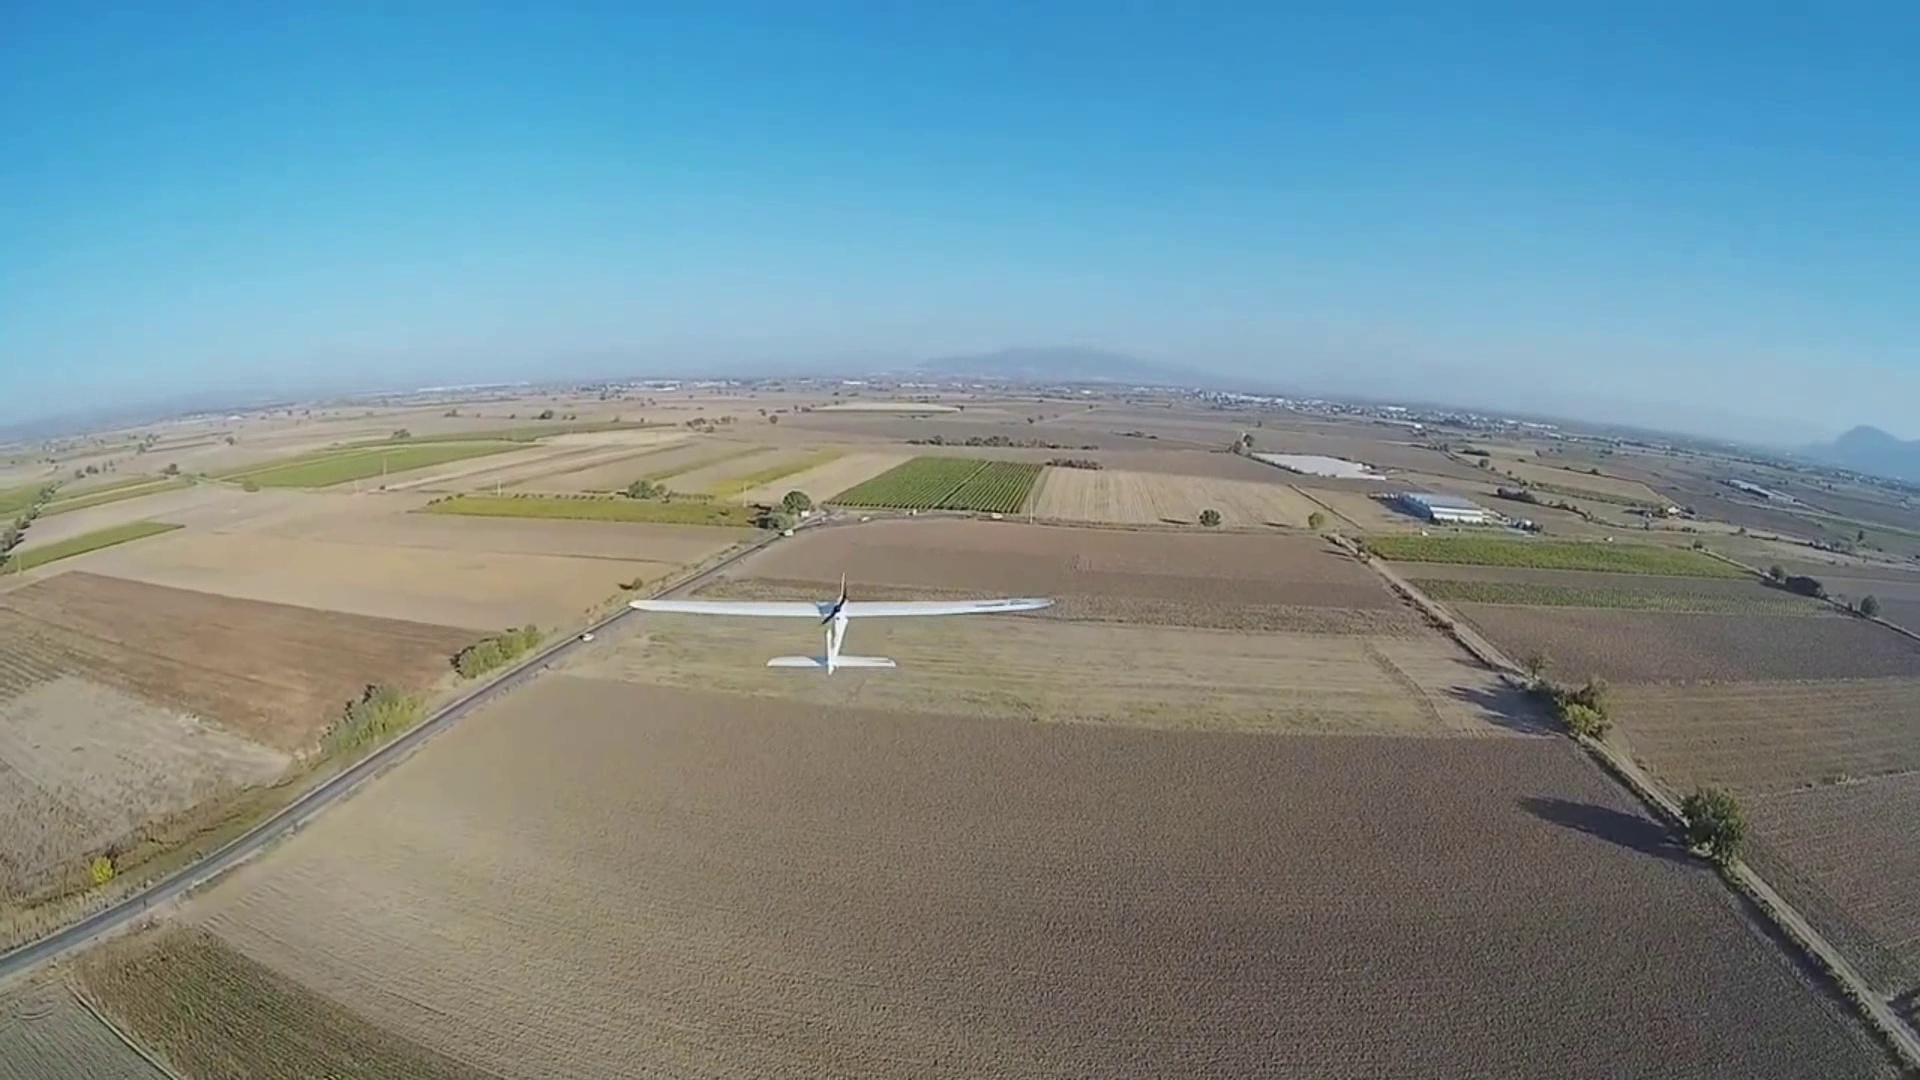airplane: (764, 588, 899, 676)
